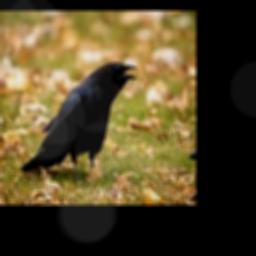Crow: (21, 62, 138, 182)
